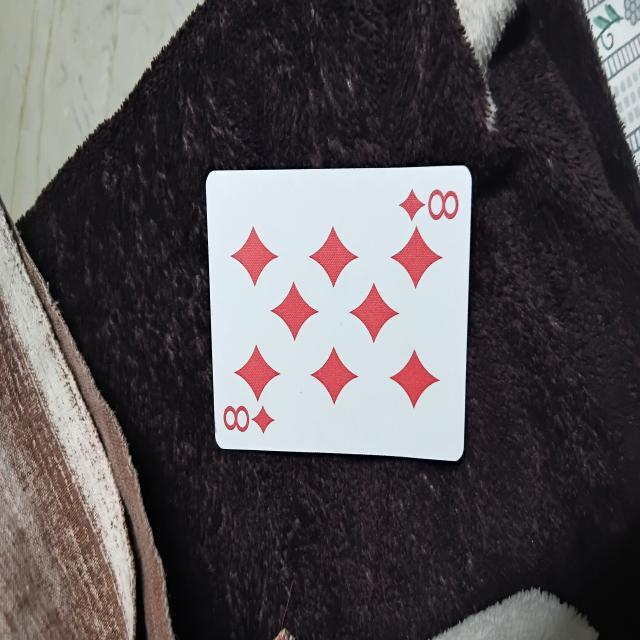8D: (207, 168, 465, 458)
